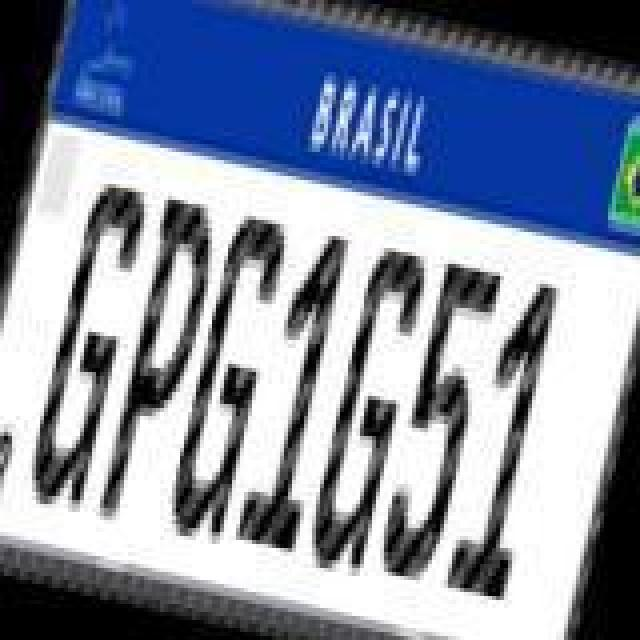1: (444, 270, 580, 610), (232, 226, 368, 558)
5: (374, 256, 506, 592)
G: (20, 172, 156, 516), (160, 208, 296, 552), (302, 238, 434, 570)
P: (92, 188, 228, 532)
